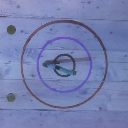Axe Tip: (52, 61, 61, 63)
